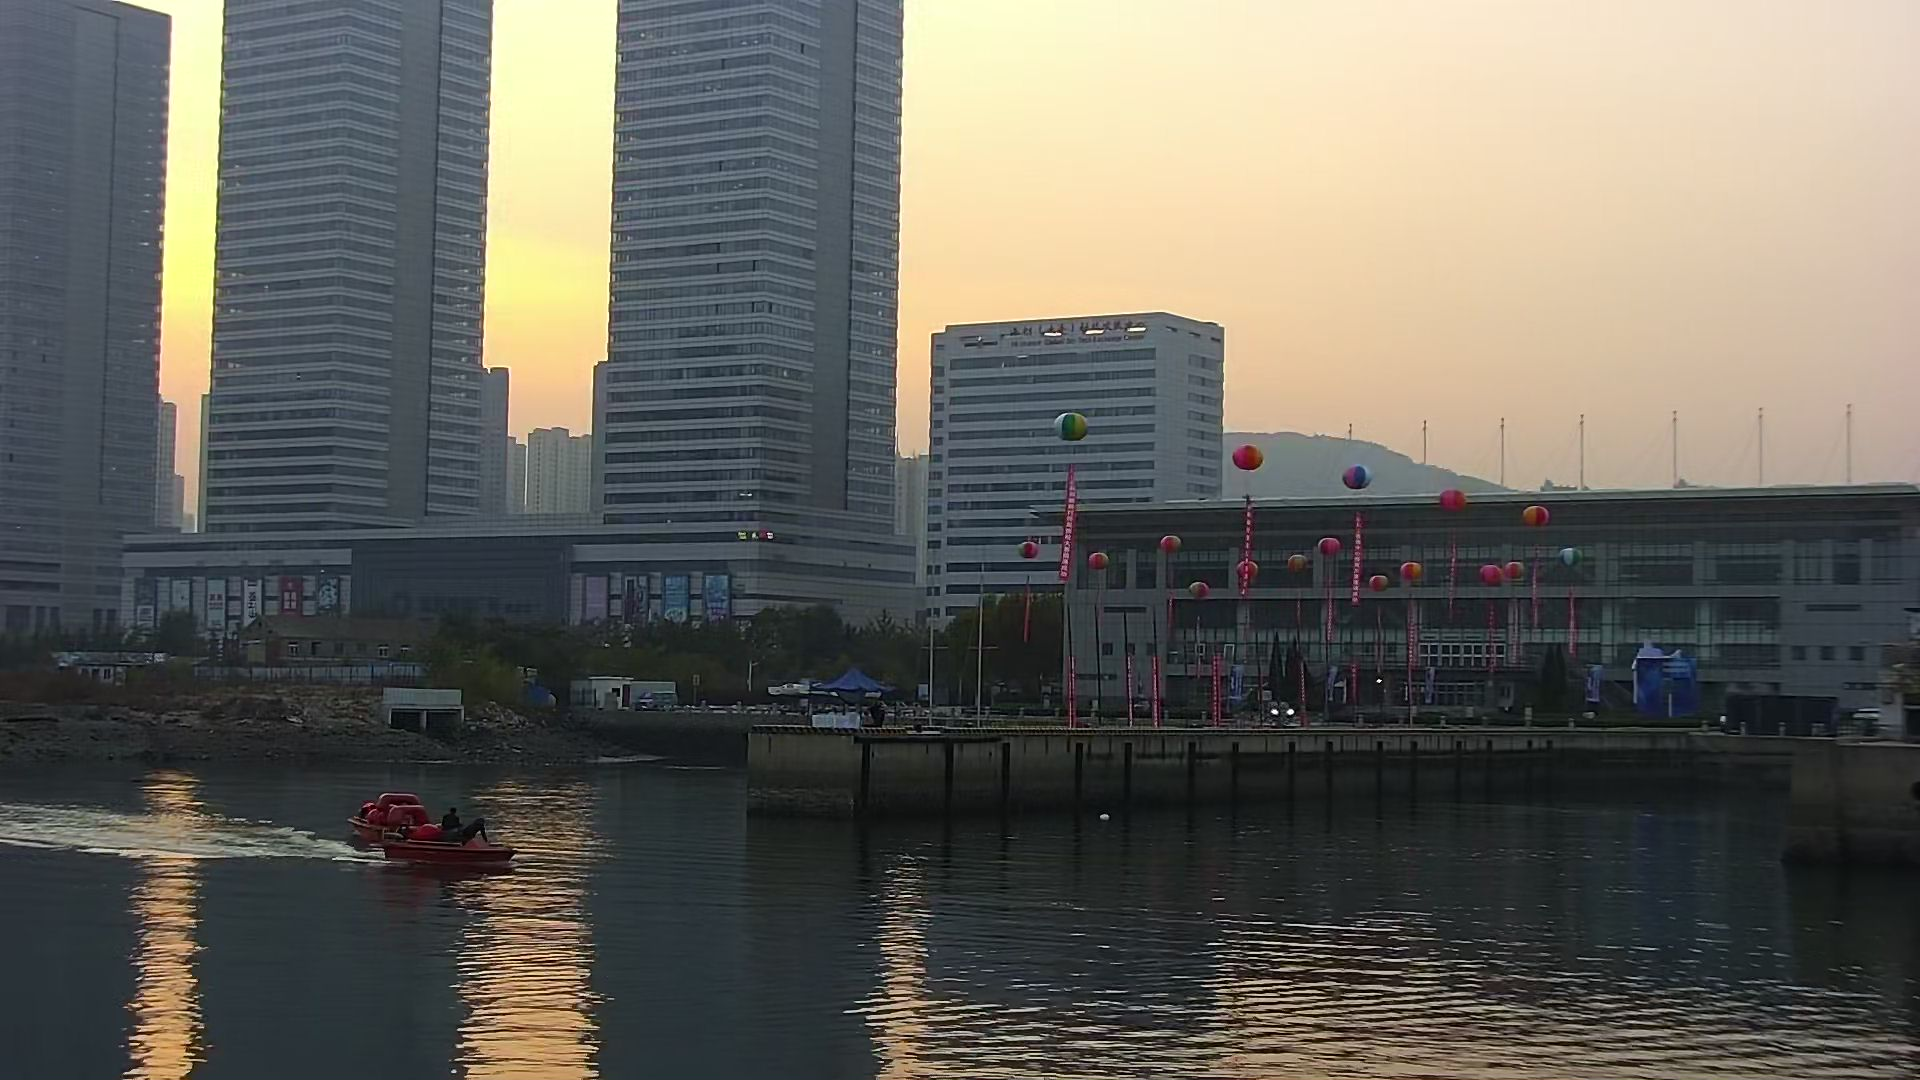boat: (386, 810, 518, 876), (347, 789, 429, 845)
